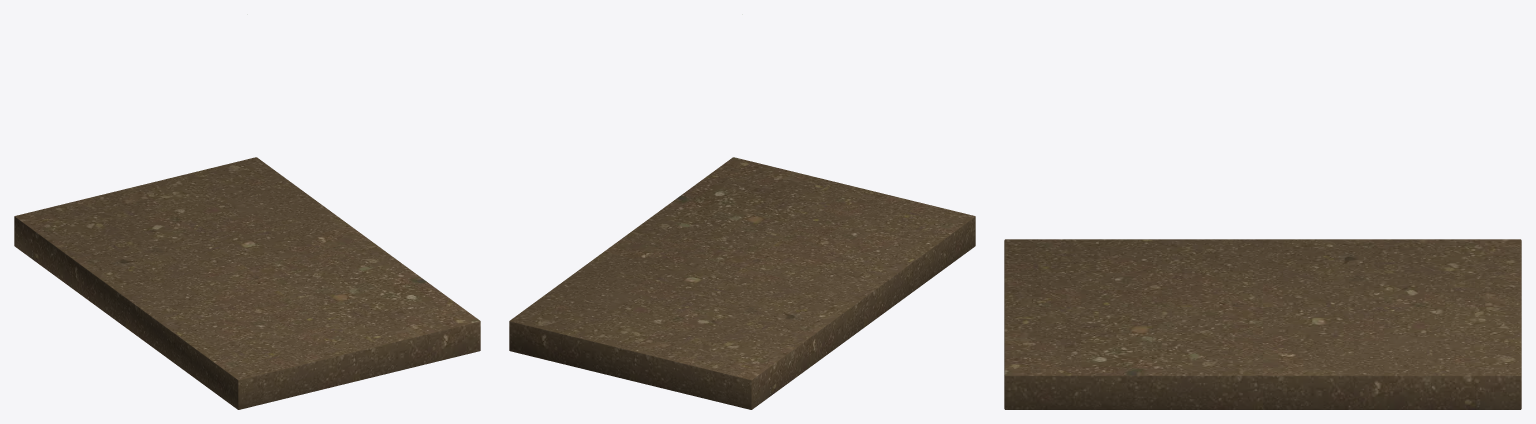
Rendered from TER-ESC-001_anim.glb.
The picture shows the model from 3 angles, left to right: view 1: azimuth 30°, elevation 25°; view 2: azimuth 150°, elevation 25°; view 3: azimuth 270°, elevation 25°; orthographic projection. The views are drawn at different scales.
Parts seen in each view (by area): view 1: TER-ESC-001_anim0; view 2: TER-ESC-001_anim0; view 3: TER-ESC-001_anim0.
Part boxes in pixels (left/top/right/bottom): TER-ESC-001_anim0: left=14, top=157, right=480, bottom=409; TER-ESC-001_anim0: left=509, top=157, right=975, bottom=409; TER-ESC-001_anim0: left=1004, top=239, right=1521, bottom=409.
Size of the model in its own units: 1 by 1.12 by 1.6.
Materials: 2 (2 with a texture image).
